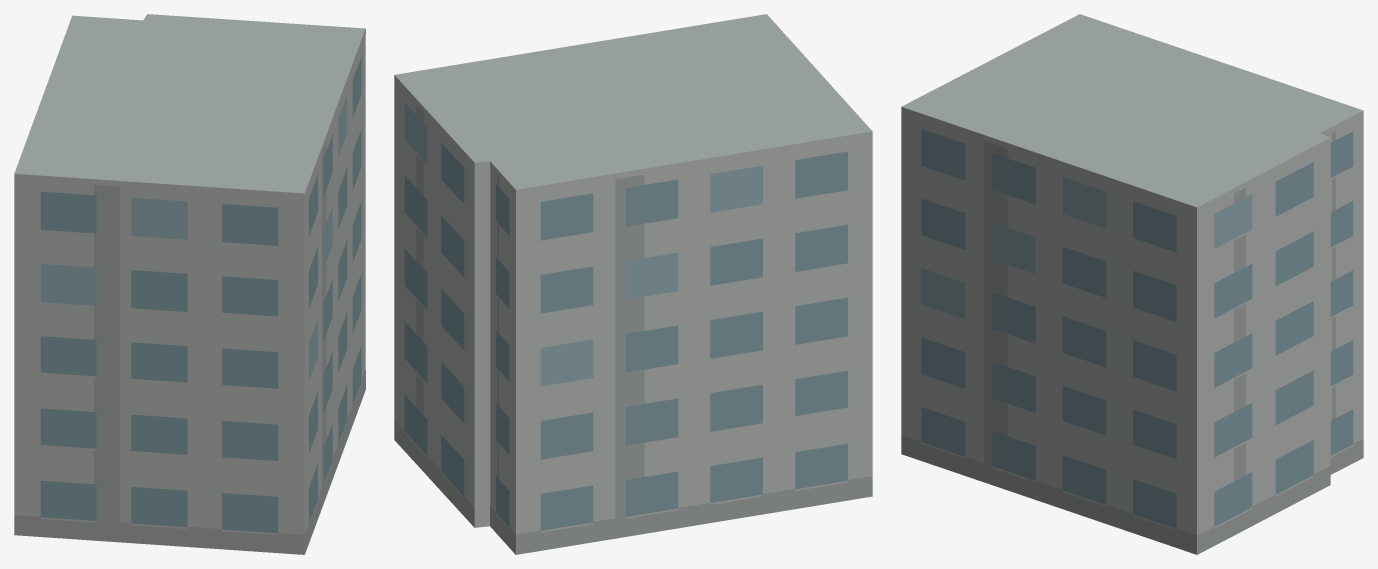
The model's file is survey-upis-32763503.glb.
3 views of the same model, side by side, from view 1: azimuth 30°, elevation 25°; view 2: azimuth 150°, elevation 25°; view 3: azimuth 270°, elevation 25° (orthographic). The views are drawn at different scales.
Visible parts, largest first — view 1: survey-upis-32763503.tmp; view 2: survey-upis-32763503.tmp; view 3: survey-upis-32763503.tmp.
Part boxes in pixels (<box>): survey-upis-32763503.tmp: <box>14,14,365,554</box>; survey-upis-32763503.tmp: <box>394,14,872,554</box>; survey-upis-32763503.tmp: <box>901,14,1363,554</box>.
Size of the model in its own units: 18.22 by 15.25 by 18.4.
